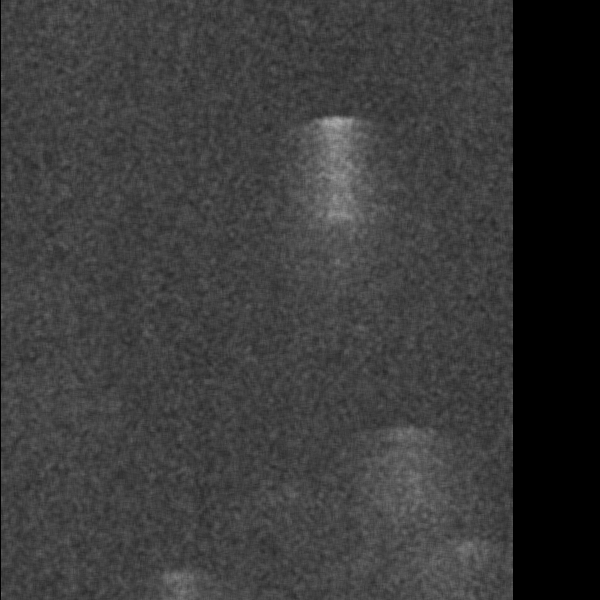spark: (97, 336, 163, 380), (248, 8, 288, 64), (263, 177, 286, 266), (33, 143, 89, 153)
